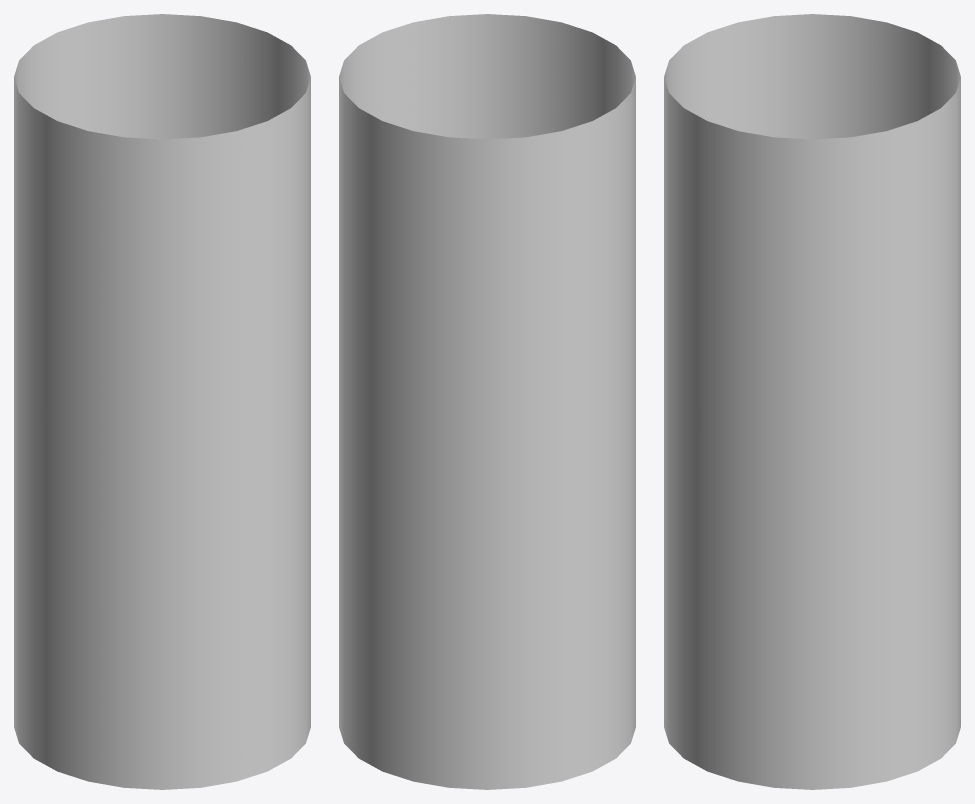
File: ray_vfx2.fbx
3 views of the same model, side by side, from view 1: azimuth 30°, elevation 25°; view 2: azimuth 150°, elevation 25°; view 3: azimuth 270°, elevation 25° (orthographic).
Visible parts, largest first — view 1: ray_vfx2; view 2: ray_vfx2; view 3: ray_vfx2.
Part boxes in pixels (x1,y1,x2,y2): ray_vfx2: (14,14,310,789); ray_vfx2: (339,14,635,789); ray_vfx2: (664,14,960,789).
Bounding box in the file's own units: 2.04 × 2.04 × 4.92.
